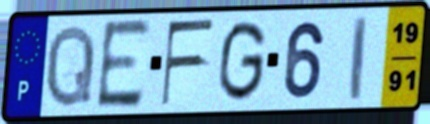6: (282, 18, 326, 102)
E: (94, 16, 154, 112)
F: (159, 17, 218, 110)
G: (215, 18, 269, 105)
I: (349, 13, 370, 103)
Q: (42, 22, 98, 111)
